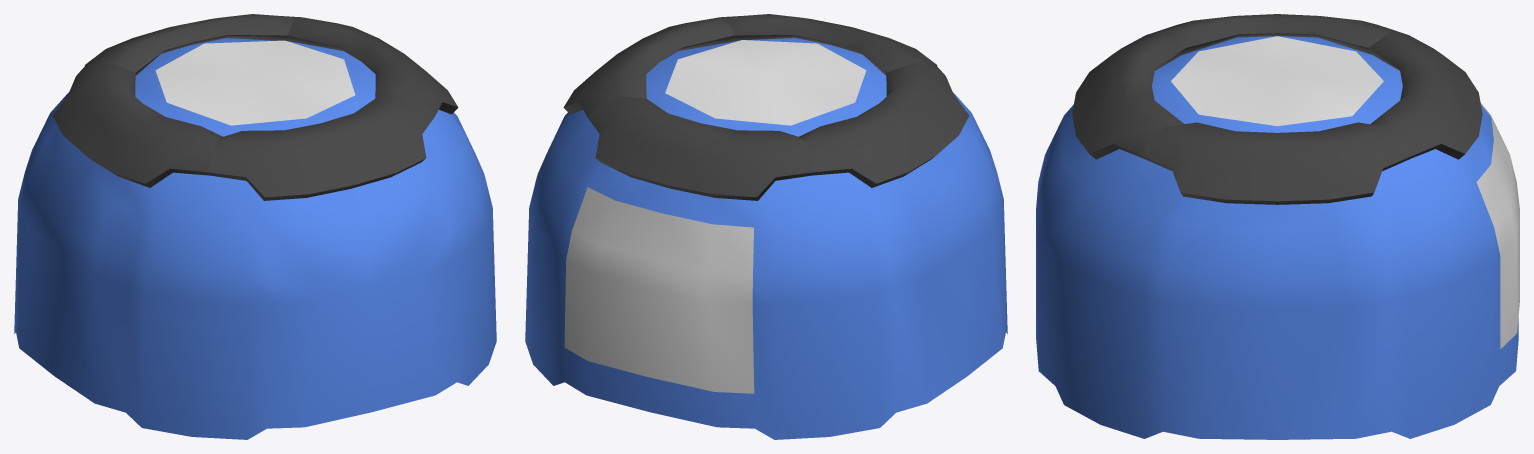
File: p_characterobject_package_woc_top.fbx
3 views of the same model, side by side, from view 1: azimuth 30°, elevation 25°; view 2: azimuth 150°, elevation 25°; view 3: azimuth 270°, elevation 25° (orthographic). The views are drawn at different scales.
Parts seen in each view (by area): view 1: p_characterobject_package_woc_top; view 2: p_characterobject_package_woc_top; view 3: p_characterobject_package_woc_top.
Part boxes in pixels (bbox=[...]): p_characterobject_package_woc_top: bbox=[14, 14, 496, 439]; p_characterobject_package_woc_top: bbox=[525, 14, 1007, 439]; p_characterobject_package_woc_top: bbox=[1036, 14, 1519, 439].
Bounding box in the file's own units: 12.14 × 7.63 × 12.17.
